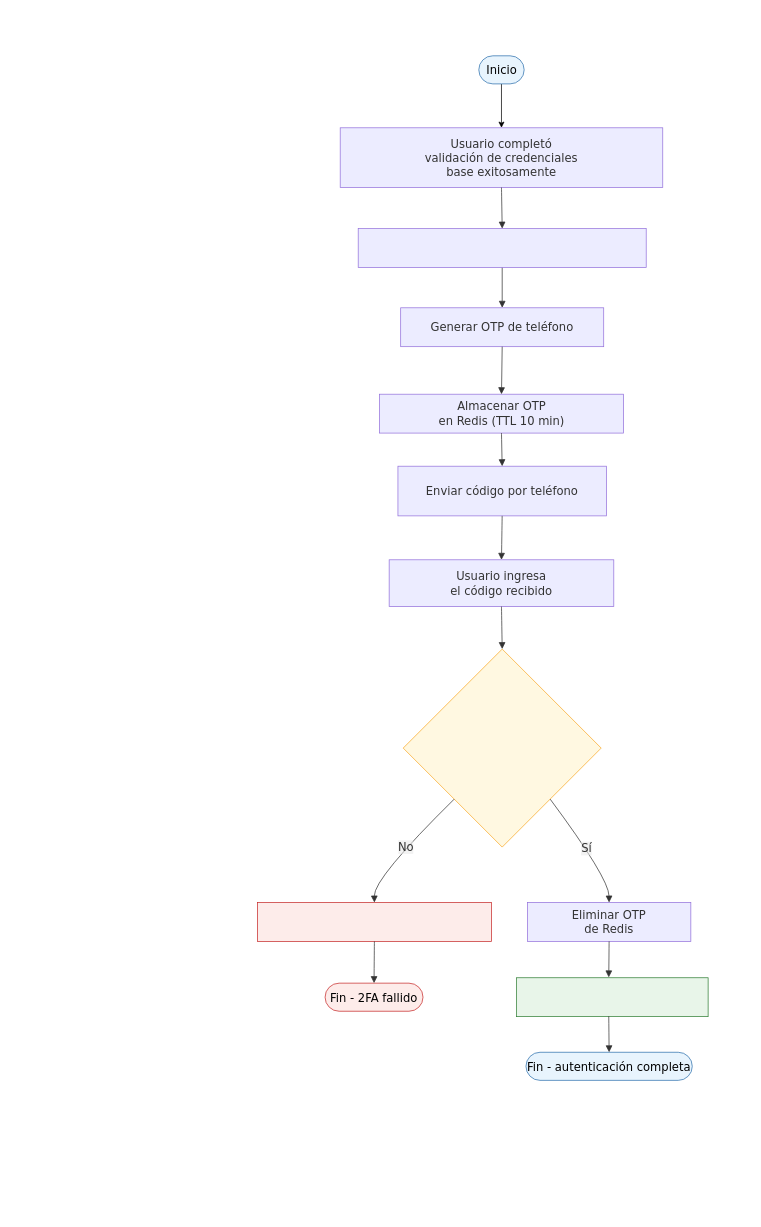
This 761x1227 diagram has some shape labels left out. Each missing label, with the centre of its shape:
"2FA completado Emitir JWT" goes at point 612,997.
"Informar código inválido o expirado" goes at point 374,921.
"Obtener teléfono desde microservicio Legajo" goes at point 501,247.
"¿OTP válido en Redis?" goes at point 501,747.
